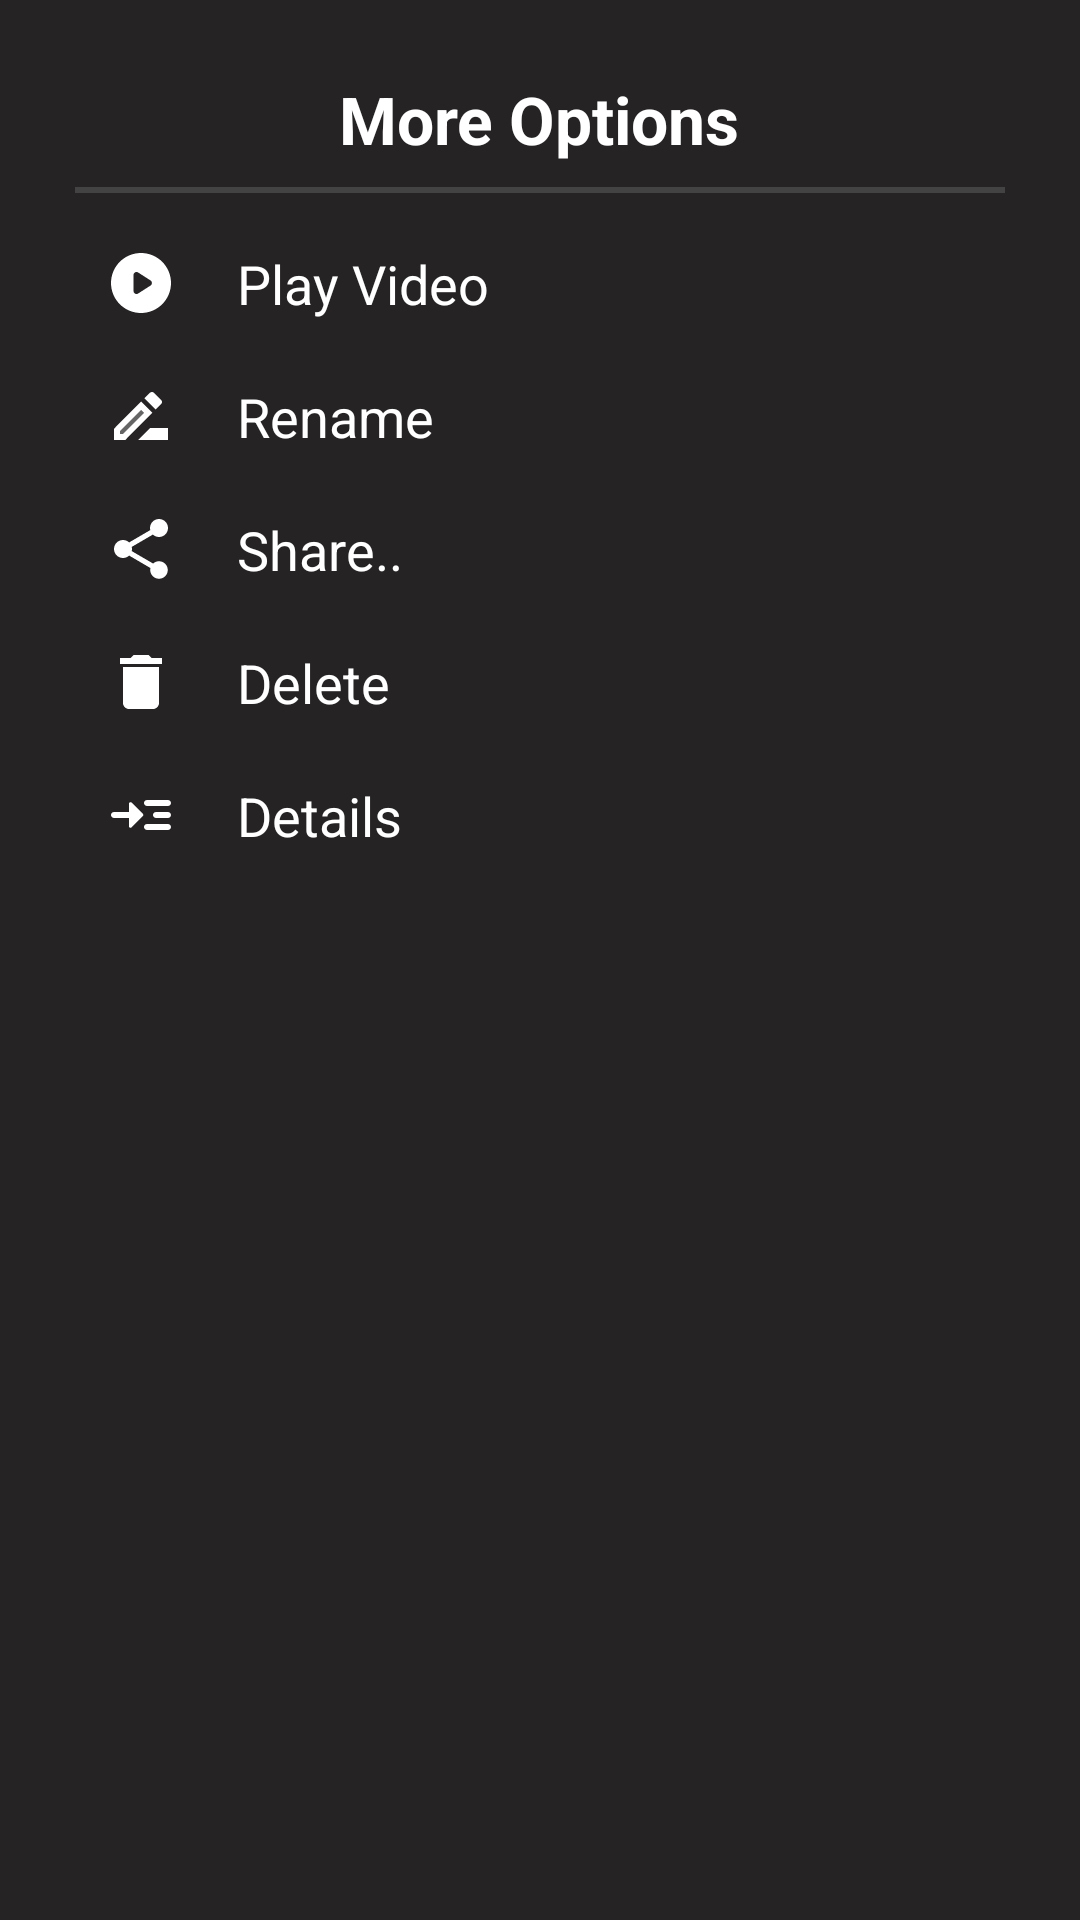

Icons on this 1080 x 1920 Android screen, each with the point to tap as (x=x, y=y):
exo play: (x=141, y=283)
